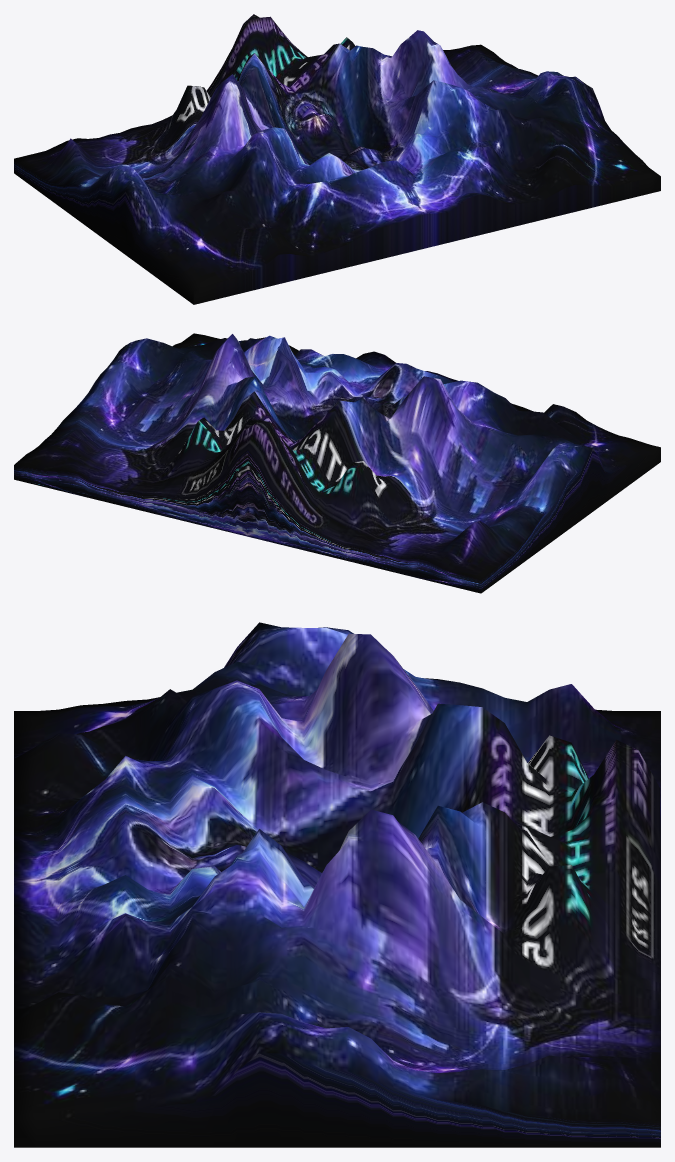
The model's file is CAREER_12_VFX_05_Authority.glb.
3 renders of one model, top to bottom at view 1: azimuth 30°, elevation 25°; view 2: azimuth 150°, elevation 25°; view 3: azimuth 270°, elevation 25°, orthographic. The views are drawn at different scales.
Parts seen in each view (by area): view 1: CAREER_12_VFX_05_Authority; view 2: CAREER_12_VFX_05_Authority; view 3: CAREER_12_VFX_05_Authority.
Part boxes in pixels (left/top/right/bottom): CAREER_12_VFX_05_Authority: left=14, top=14, right=660, bottom=304; CAREER_12_VFX_05_Authority: left=14, top=333, right=660, bottom=593; CAREER_12_VFX_05_Authority: left=14, top=622, right=660, bottom=1147.
Bounding box in the file's own units: 2 × 0.51 × 1.33.
Materials: 1 (1 with a texture image).
